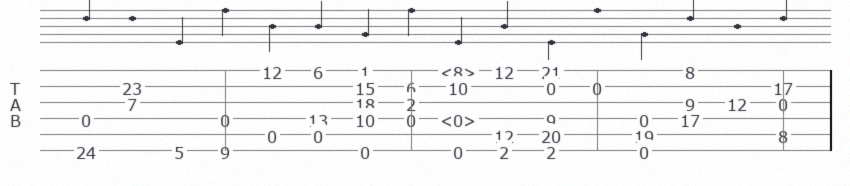0: (81, 110, 95, 126), (220, 110, 234, 126), (267, 126, 281, 142), (313, 126, 327, 142), (360, 142, 374, 158), (406, 110, 420, 126), (453, 142, 467, 158), (546, 78, 560, 94), (592, 78, 606, 94), (639, 110, 653, 126), (639, 142, 653, 158), (778, 94, 792, 110)
1: (360, 62, 374, 78)
10: (355, 110, 379, 126), (448, 78, 472, 94)
12: (262, 62, 286, 78), (494, 126, 518, 142), (494, 62, 518, 78), (727, 94, 751, 110)
13: (308, 110, 332, 126)
15: (355, 78, 379, 94)
17: (680, 110, 704, 126), (773, 78, 797, 94)
18: (355, 94, 379, 110)
19: (634, 126, 658, 142)
2: (406, 94, 420, 110), (499, 142, 513, 158), (546, 142, 560, 158)
20: (541, 126, 565, 142)
21: (541, 62, 565, 78)
23: (122, 78, 146, 94)
24: (76, 142, 100, 158)
5: (174, 142, 188, 158)
6: (313, 62, 327, 78), (406, 78, 420, 94)
7: (127, 94, 141, 110)
8: (685, 62, 699, 78), (778, 126, 792, 142)
9: (220, 142, 234, 158), (546, 110, 560, 126), (685, 94, 699, 110)
harmonic: (440, 110, 480, 126), (440, 62, 480, 78)
